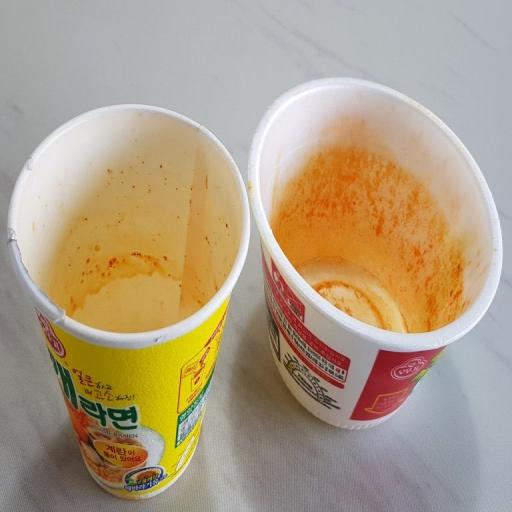paper: (8, 105, 249, 498), (249, 78, 502, 428)
